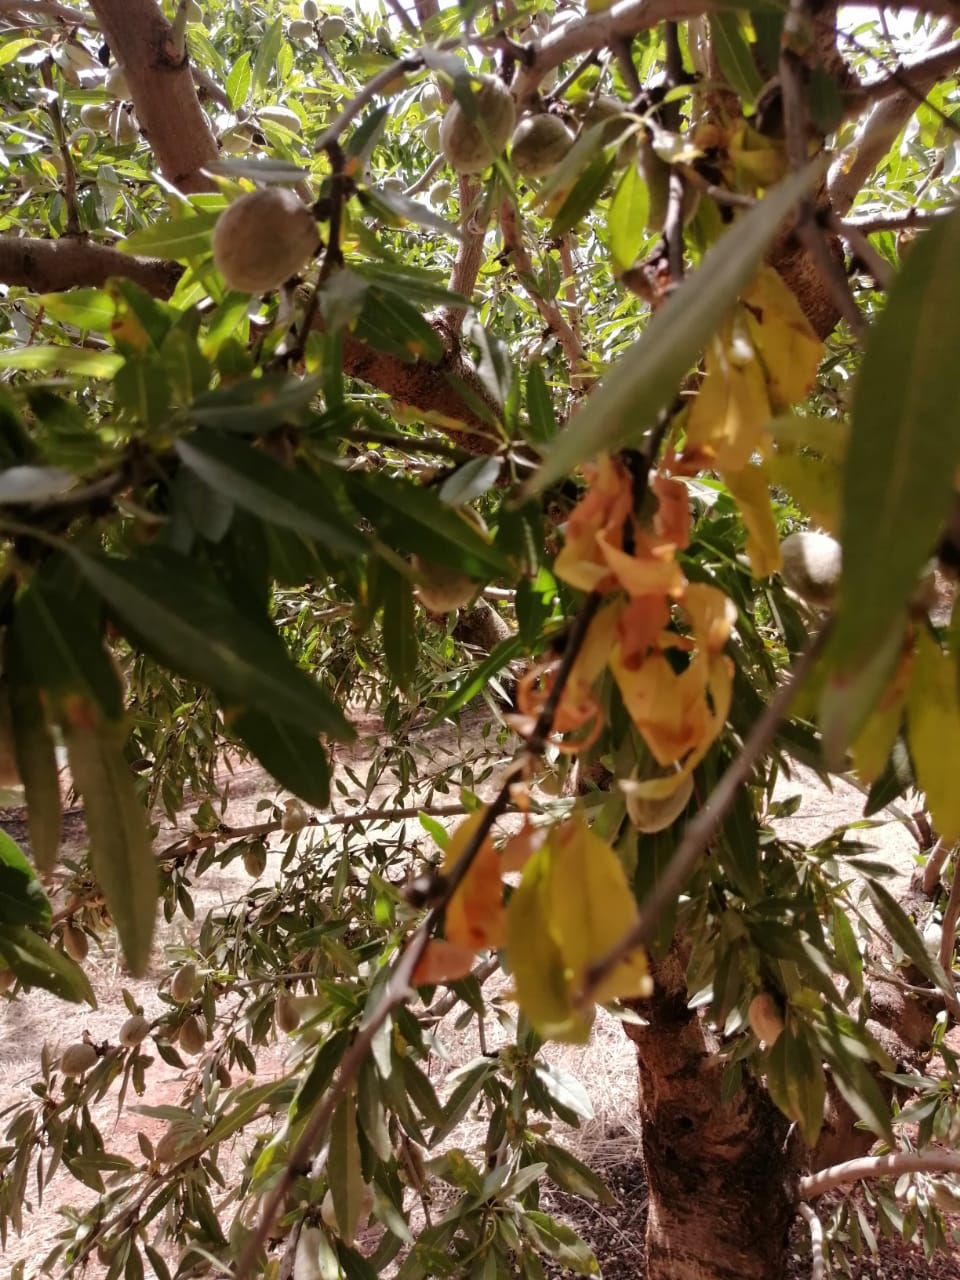chancre fusicocum: (368, 272, 819, 1026)
